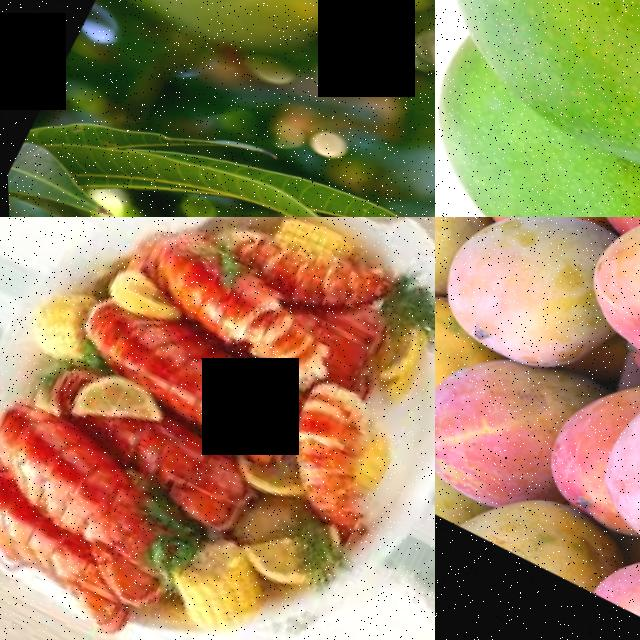lobster tails: (138, 227, 348, 392), (117, 317, 307, 478), (0, 464, 146, 640), (0, 386, 151, 545), (109, 405, 264, 542)
mango: (435, 0, 640, 217), (435, 217, 602, 378), (435, 332, 571, 519), (577, 348, 640, 600), (567, 217, 640, 414), (585, 515, 640, 635)
